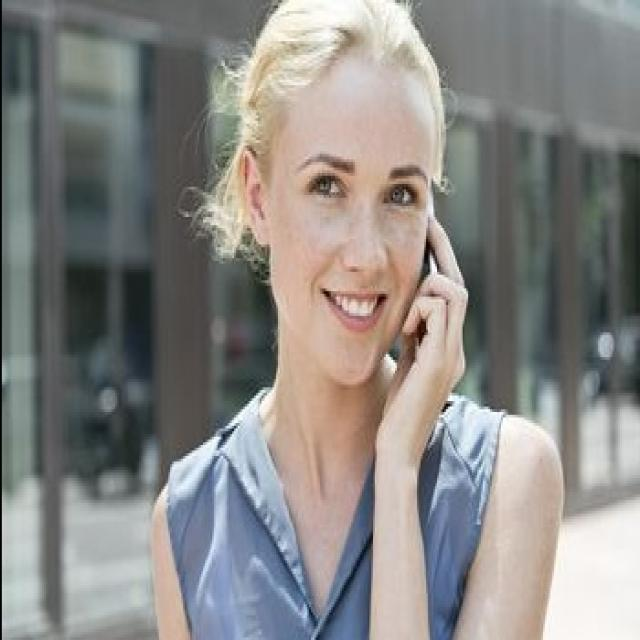phone: (368, 146, 468, 420)
